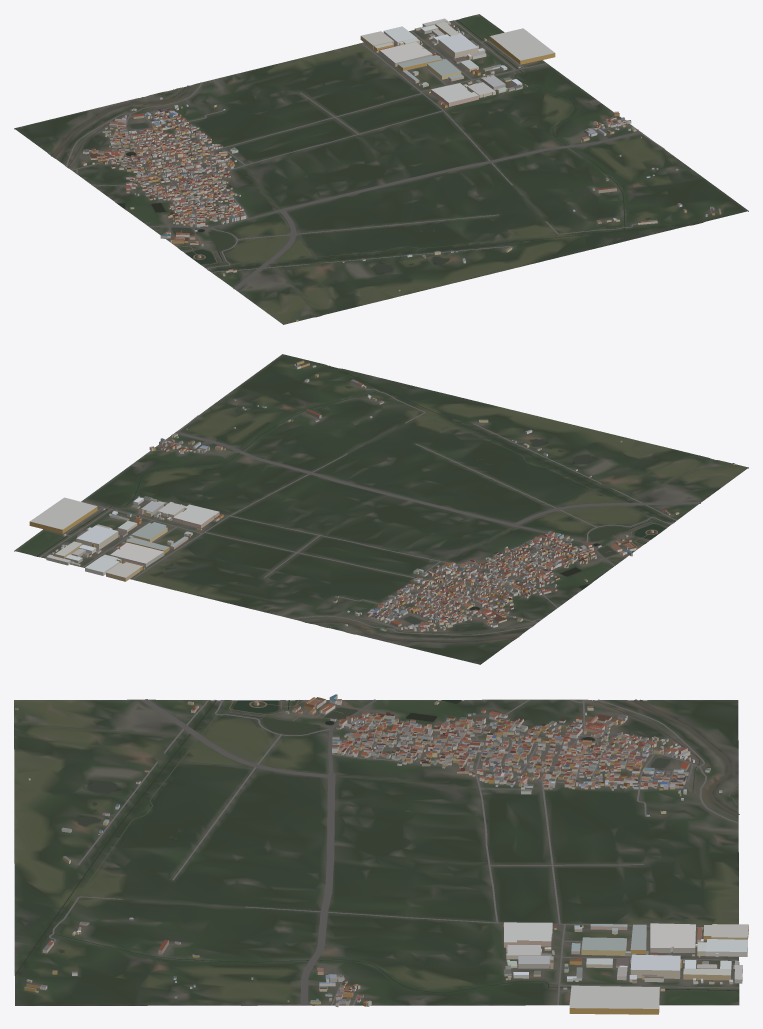
The picture shows the model from 3 angles, top to bottom: view 1: azimuth 30°, elevation 25°; view 2: azimuth 150°, elevation 25°; view 3: azimuth 270°, elevation 25°; orthographic projection. The views are drawn at different scales.
Visible parts, largest first — view 1: ground, buildings, roads, water; view 2: ground, buildings, roads, water; view 3: ground, buildings, roads, water.
Part boxes in pixels (bbox=[...]): ground: bbox=[14, 14, 748, 324]; buildings: bbox=[81, 18, 721, 321]; roads: bbox=[66, 20, 664, 289]; water: bbox=[50, 20, 701, 316]; ground: bbox=[14, 354, 748, 664]; buildings: bbox=[29, 360, 735, 632]; roads: bbox=[40, 388, 700, 635]; water: bbox=[37, 365, 713, 641]; ground: bbox=[14, 699, 739, 1005]; buildings: bbox=[15, 694, 748, 1014]; roads: bbox=[49, 699, 738, 1005]; water: bbox=[14, 699, 739, 993].
Size of the model in its own units: 1453 by 23.2 by 1422.
